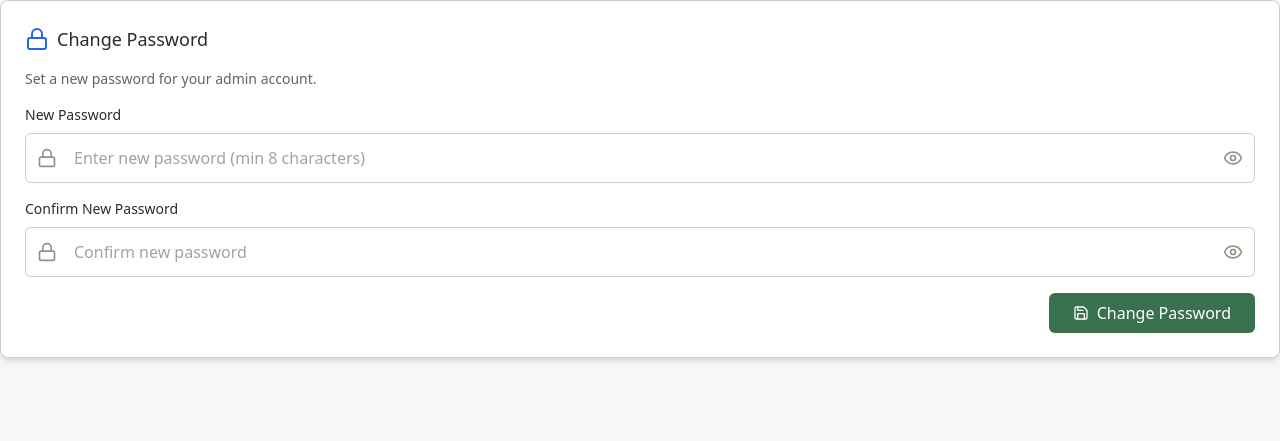
Test: PasswordChange › Form Validation › shows error when new password is empty
In the password field labelled "Confirm New Password": (640, 252) [25,227,1255,277], type "password123"
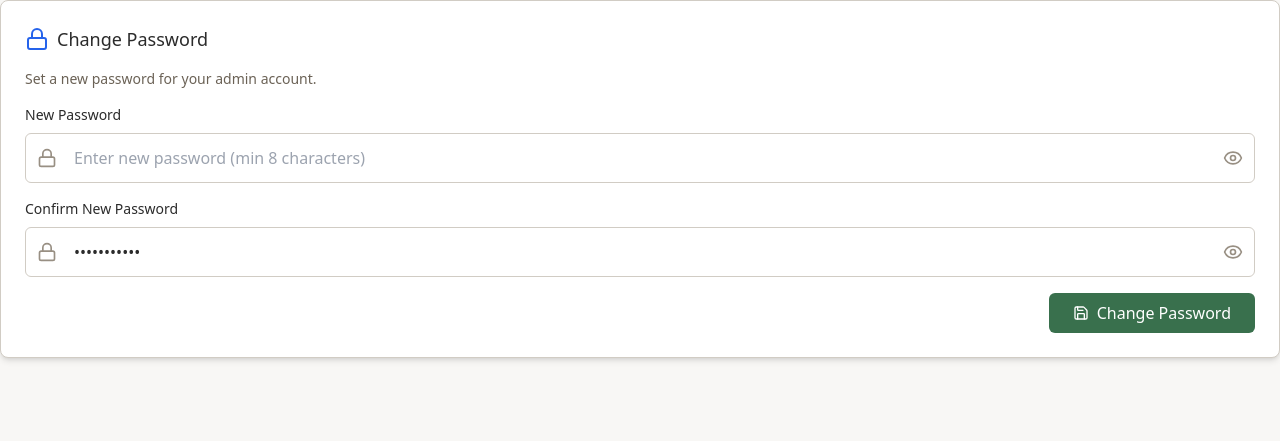
Submit the form "New Password Confirm New Password Change Password", box [25,105,1255,333]
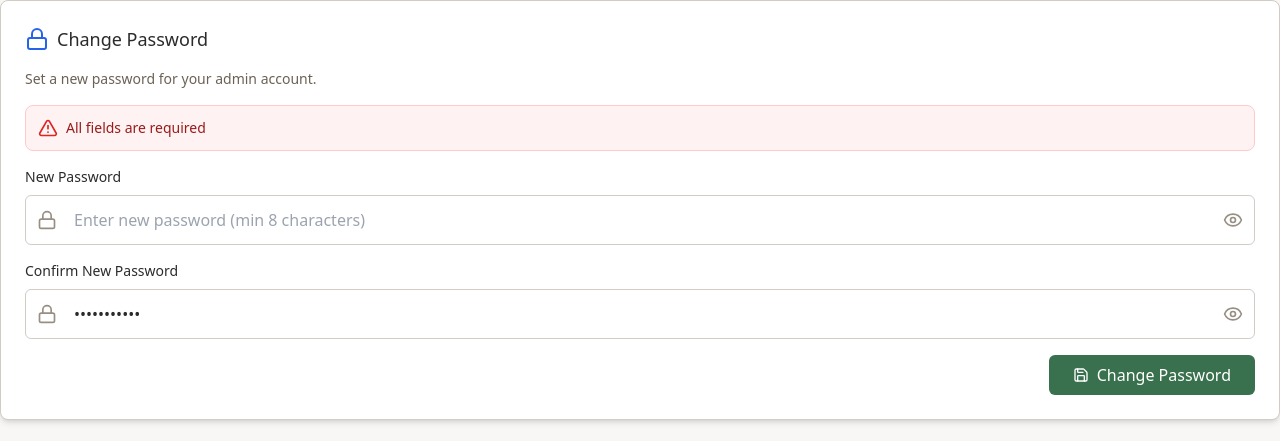
Expected: the text "All fields are required" is shown, [66,118,206,138]
